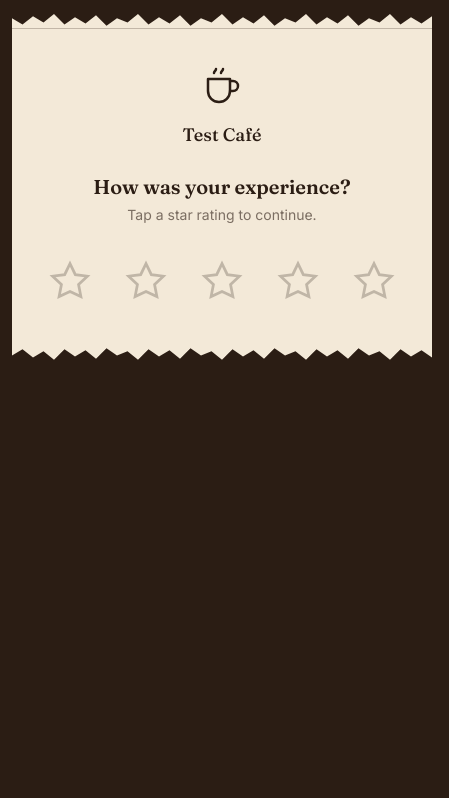
Test: ReviewFlow › sends the selected tags to the AI endpoint and shows the generated reviews
Click the radio button named "5 stars - excellent" at (374, 281), box [342, 249, 406, 313]
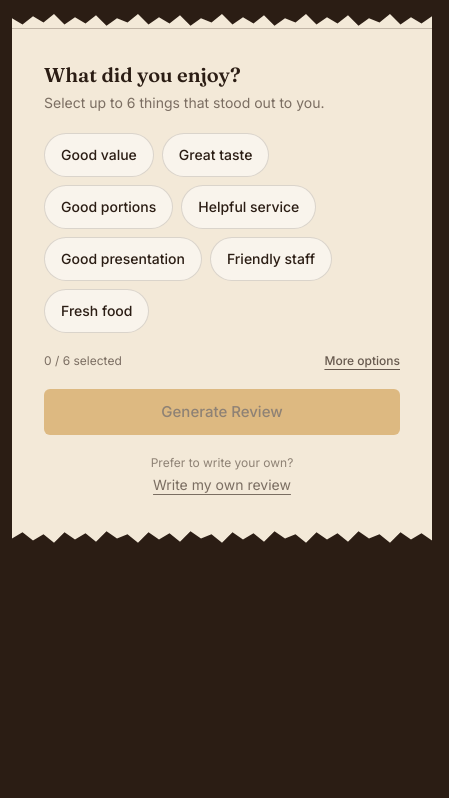
Check: the heading "What did you enjoy?" is shown, box [44, 62, 241, 87]
Click the button "Good value" at (99, 155), box [44, 133, 154, 177]
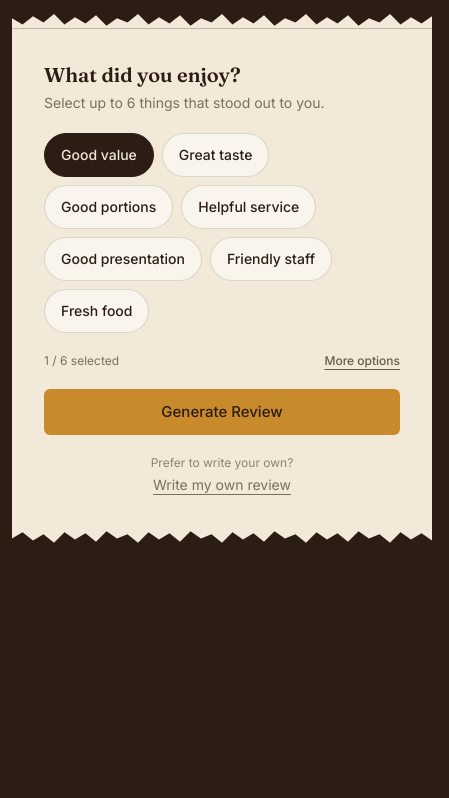
Click the button "Great taste" at (216, 155), box [162, 133, 269, 177]
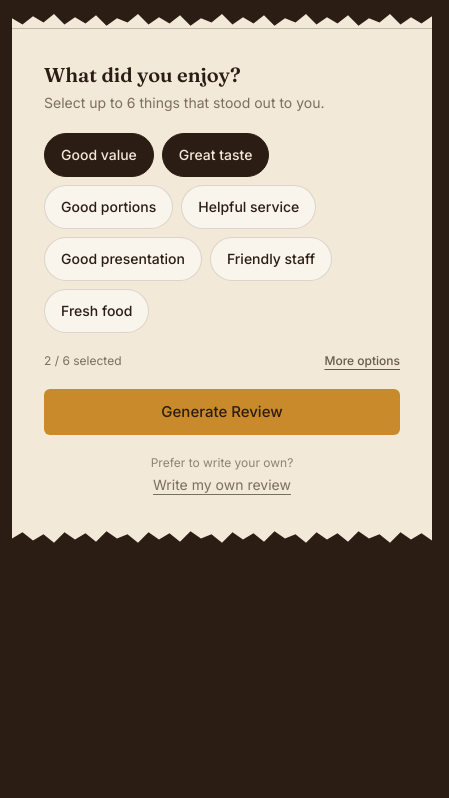
Click the button "Generate Review" at (222, 412), box [44, 389, 400, 435]
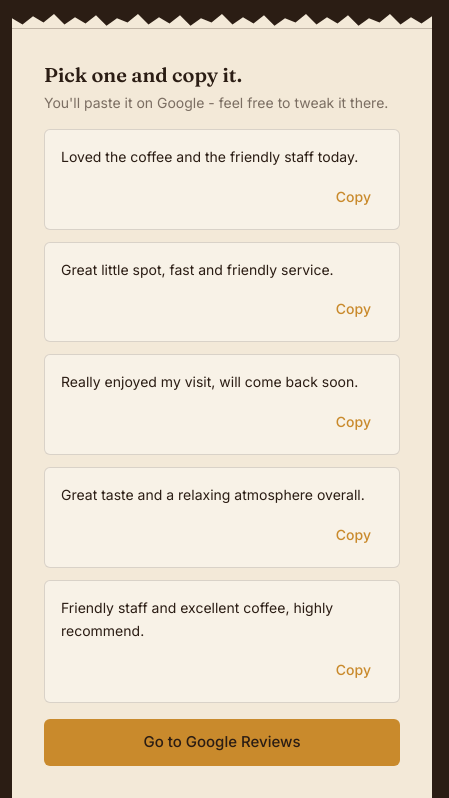
Check: the text "Loved the coffee and the friendly staff today." is shown, box [61, 146, 383, 169]
